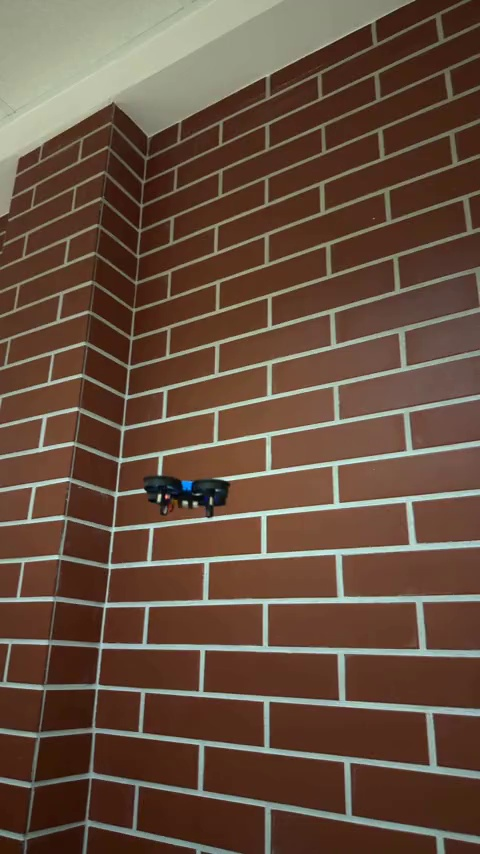drone: (142, 472, 230, 514)
